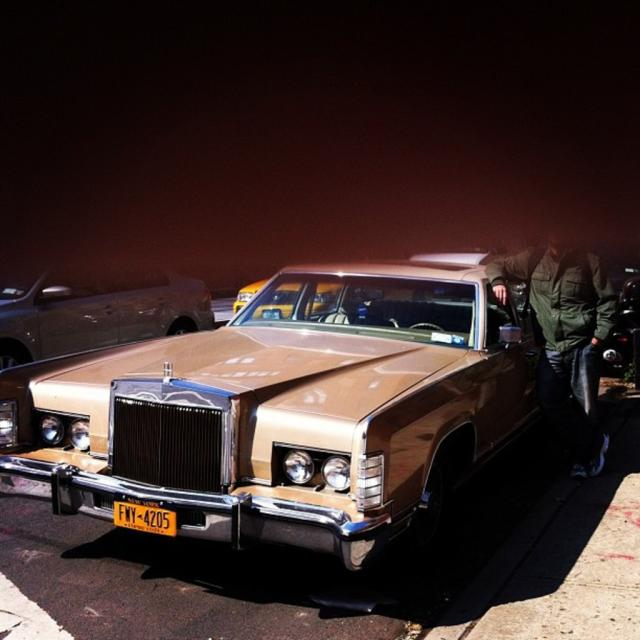car: (48, 278, 546, 595)
